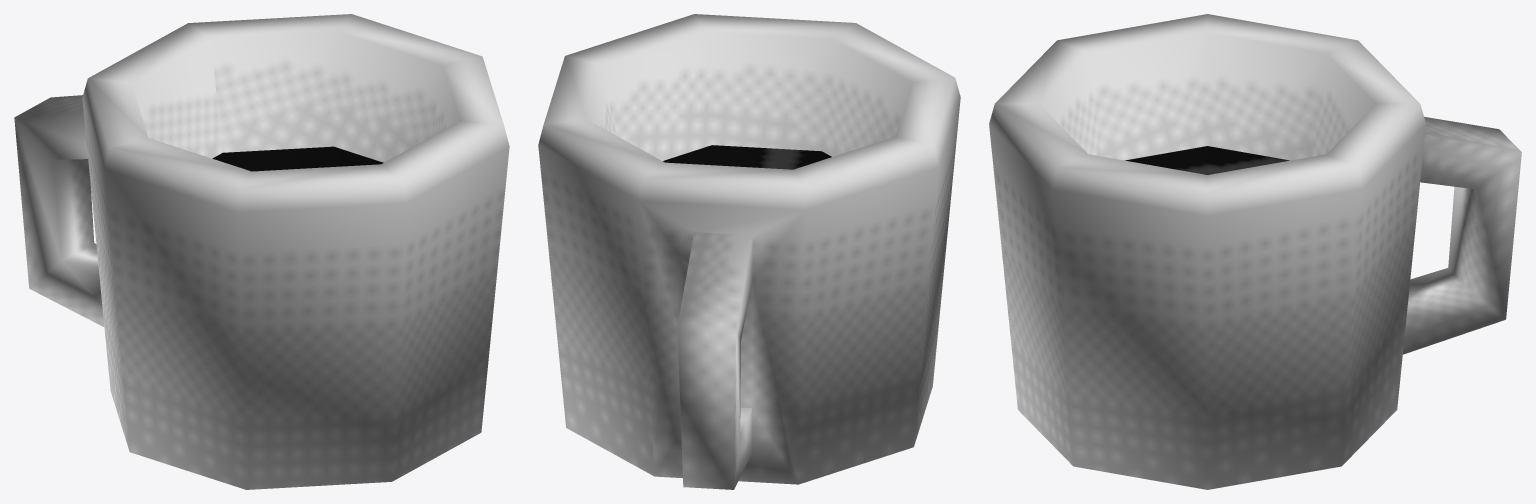
Rendered from mug_01.fbx.
3 renders of one model, left to right at view 1: azimuth 30°, elevation 25°; view 2: azimuth 150°, elevation 25°; view 3: azimuth 270°, elevation 25°, orthographic.
Visible parts, largest first — view 1: mug; view 2: mug; view 3: mug.
Boxes of the visible parts, bbox=[...] form: mug: bbox=[14, 14, 509, 489]; mug: bbox=[538, 14, 960, 489]; mug: bbox=[989, 14, 1521, 489].
Bounding box in the file's own units: 84.91 × 65.58 × 104.
